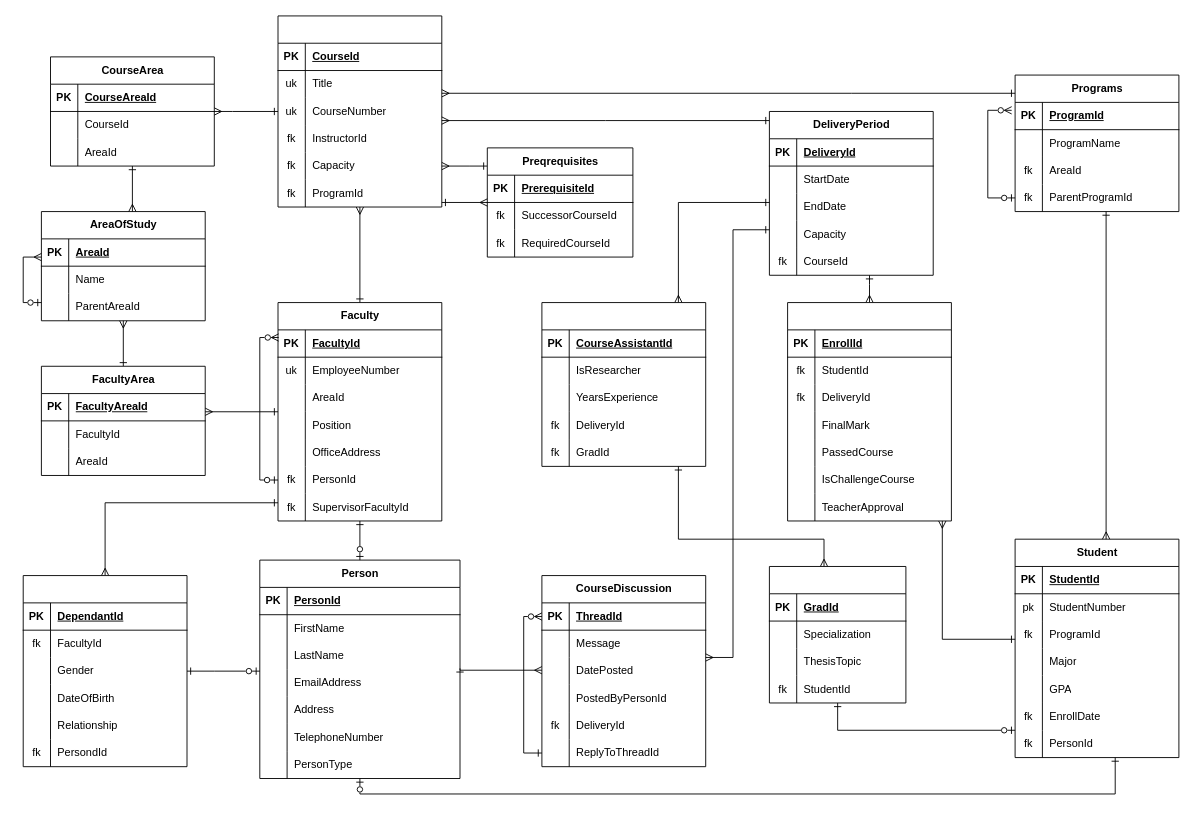
Some shapes in this 1195 by 818 pixel diagram are drawn without their labels. The shapes that lost their labels are listed below. From the top down, each one's box as (x1, y1, x2, y2) in pixels, then its label:
(277, 15, 442, 207): Courses
(541, 302, 706, 466): CourseAssistants
(787, 302, 951, 521): CourseEnrollement
(768, 566, 906, 703): GraduateStudents
(22, 575, 187, 767): Dependants
